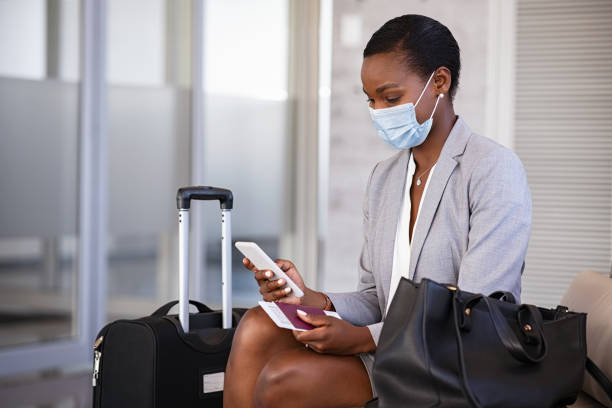with mask: (357, 43, 446, 152)
